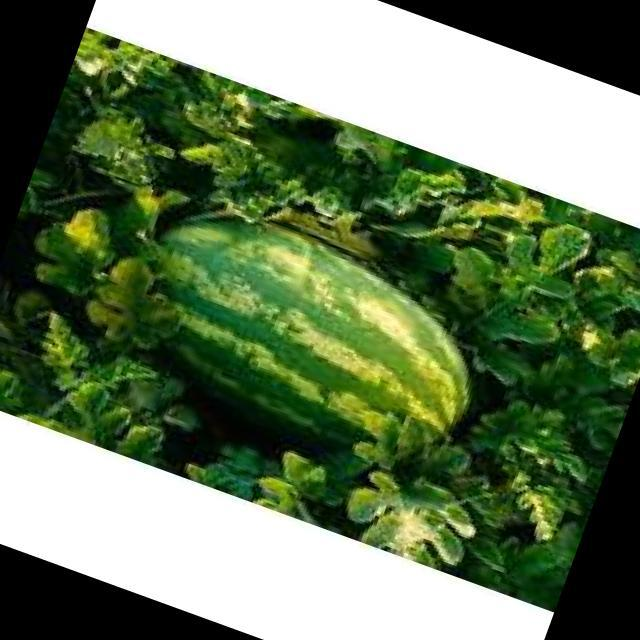watermelon: (141, 224, 469, 456)
